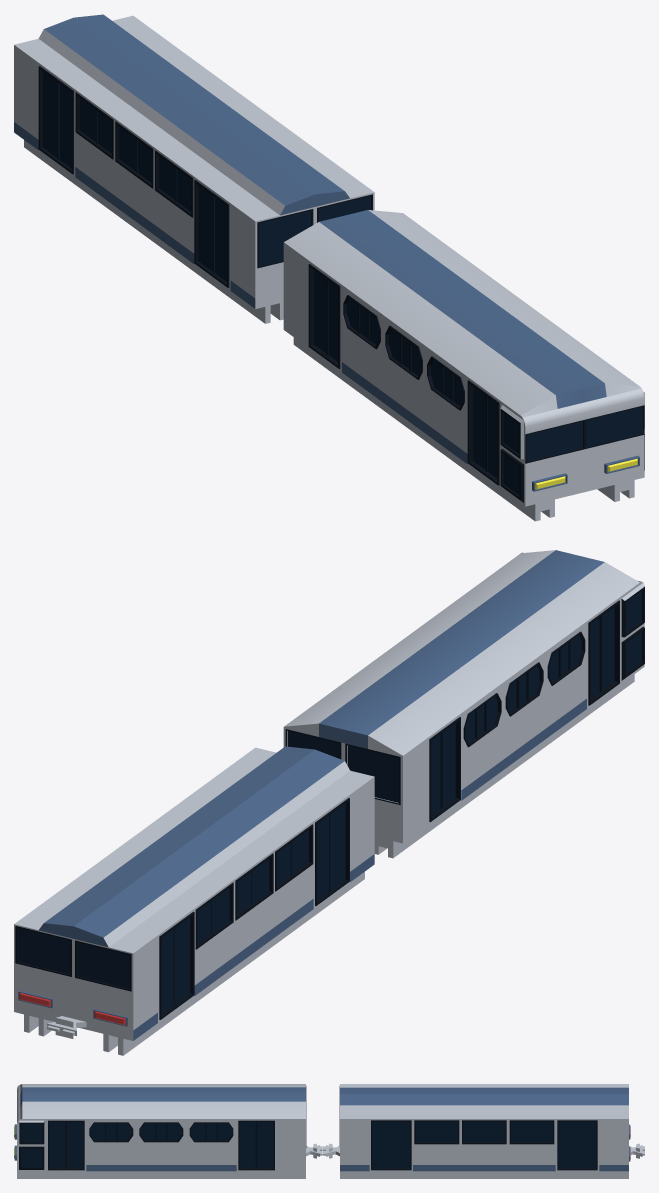
Rendered from subway-metro.fbx.
3 views of the same model, one above another, from view 1: azimuth 30°, elevation 25°; view 2: azimuth 150°, elevation 25°; view 3: azimuth 270°, elevation 25° (orthographic). The views are drawn at different scales.
Visible parts, largest first — view 1: subway-metro (cars are chiildren), subway-car; view 2: subway-car, subway-metro (cars are chiildren); view 3: subway-car, subway-metro (cars are chiildren).
Boxes of the visible parts, bbox=[...] form: subway-metro (cars are chiildren): bbox=[283, 210, 644, 521]; subway-car: bbox=[14, 14, 374, 323]; subway-car: bbox=[14, 746, 374, 1055]; subway-metro (cars are chiildren): bbox=[283, 550, 644, 858]; subway-car: bbox=[322, 1084, 644, 1178]; subway-metro (cars are chiildren): bbox=[14, 1084, 322, 1178].
Size of the model in its own units: 3.9 by 3.52 by 28.65.
